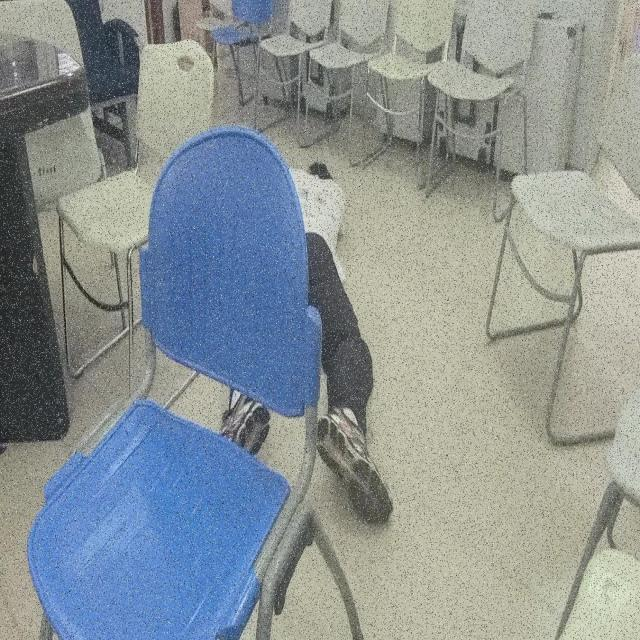fall: (219, 156, 396, 528)
